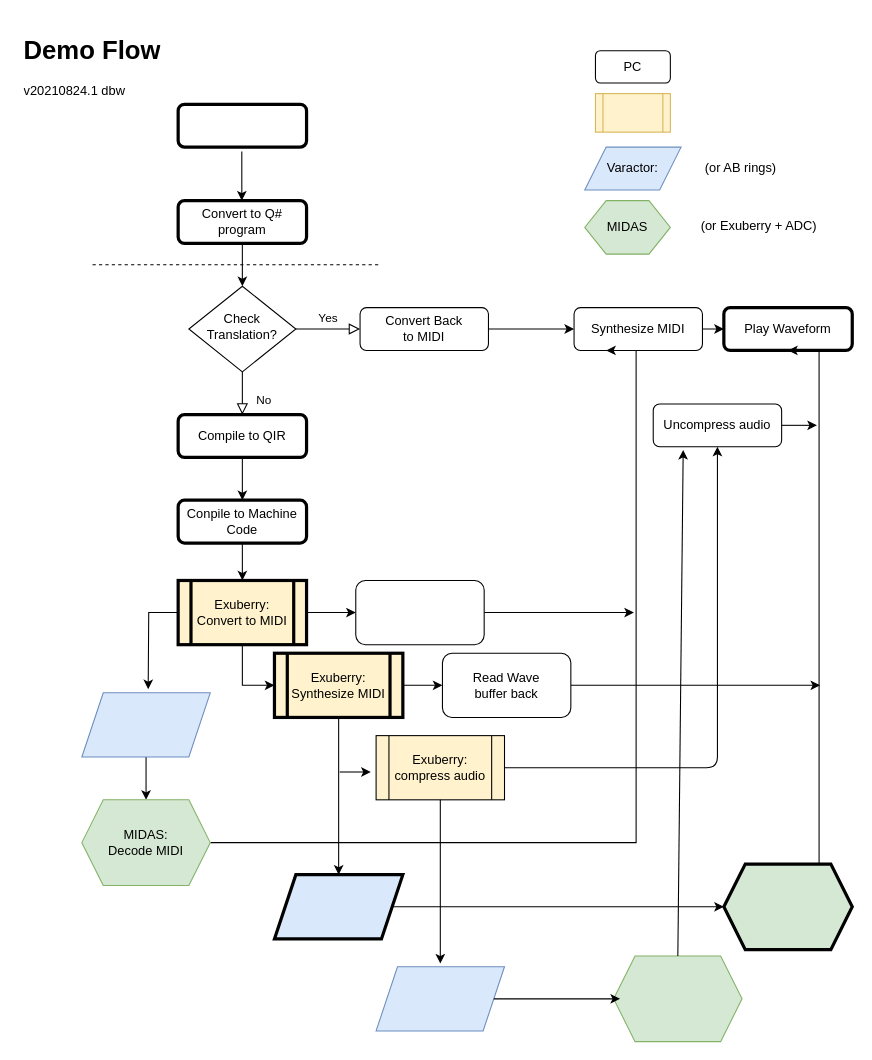
This 872x1060 diagram has some shape labels left out. The shapes that lost their labels are listed below. From the top down, each one's centre as x and y in pixels, then its label:
the point at 242,125: Input Source MIDI file
the point at 632,112: Exuberry:
the point at 419,612: Read MIDI buffer back
the point at 145,724: Varactor: Render MIDI
the point at 338,906: Varactor: Render Wave
the point at 787,906: MIDAS: Decode Wave
the point at 440,998: Varactor: Render MP3
the point at 677,998: MIDAS: Decode MP3
